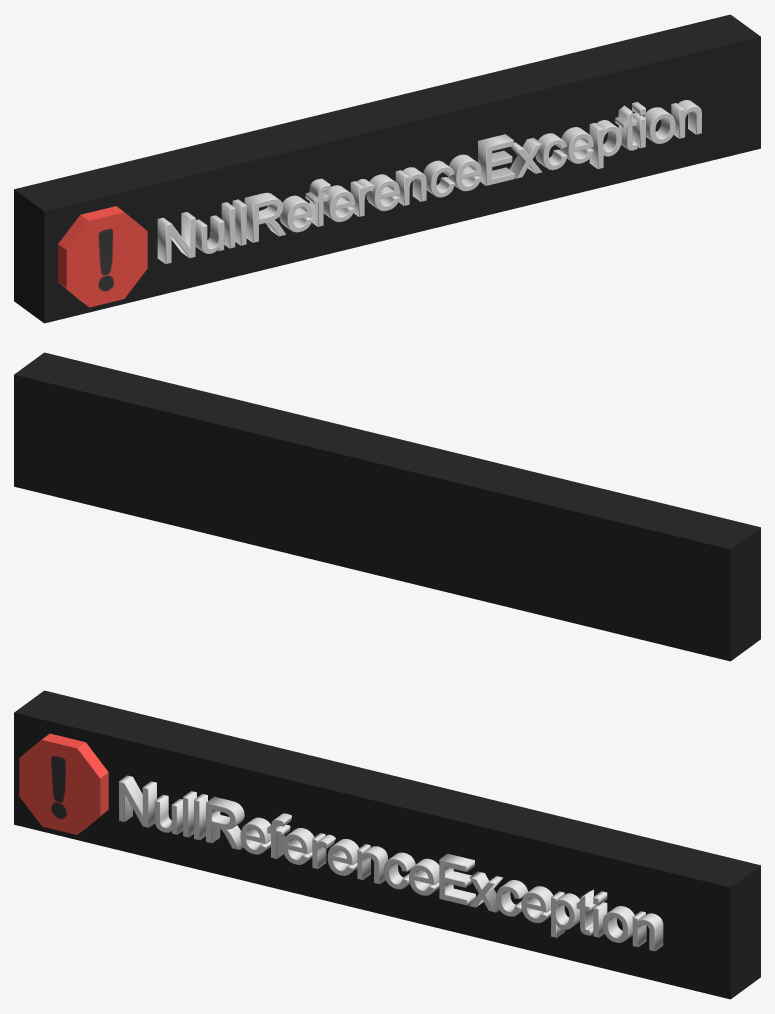
File: NullReferenceException1.fbx
3 renders of one model, top to bottom at view 1: azimuth 30°, elevation 25°; view 2: azimuth 150°, elevation 25°; view 3: azimuth 330°, elevation 25°, orthographic.
Parts seen in each view (by area): view 1: nooo2.001, NullReferenceException; view 2: nooo2.001; view 3: nooo2.001, NullReferenceException.
Part boxes in pixels (bbox=[...]): nooo2.001: bbox=[14, 14, 760, 323]; NullReferenceException: bbox=[157, 100, 701, 264]; nooo2.001: bbox=[14, 352, 760, 661]; nooo2.001: bbox=[14, 690, 760, 999]; NullReferenceException: bbox=[119, 775, 663, 951].
Size of the model in its own units: 2646 by 395 by 249.
